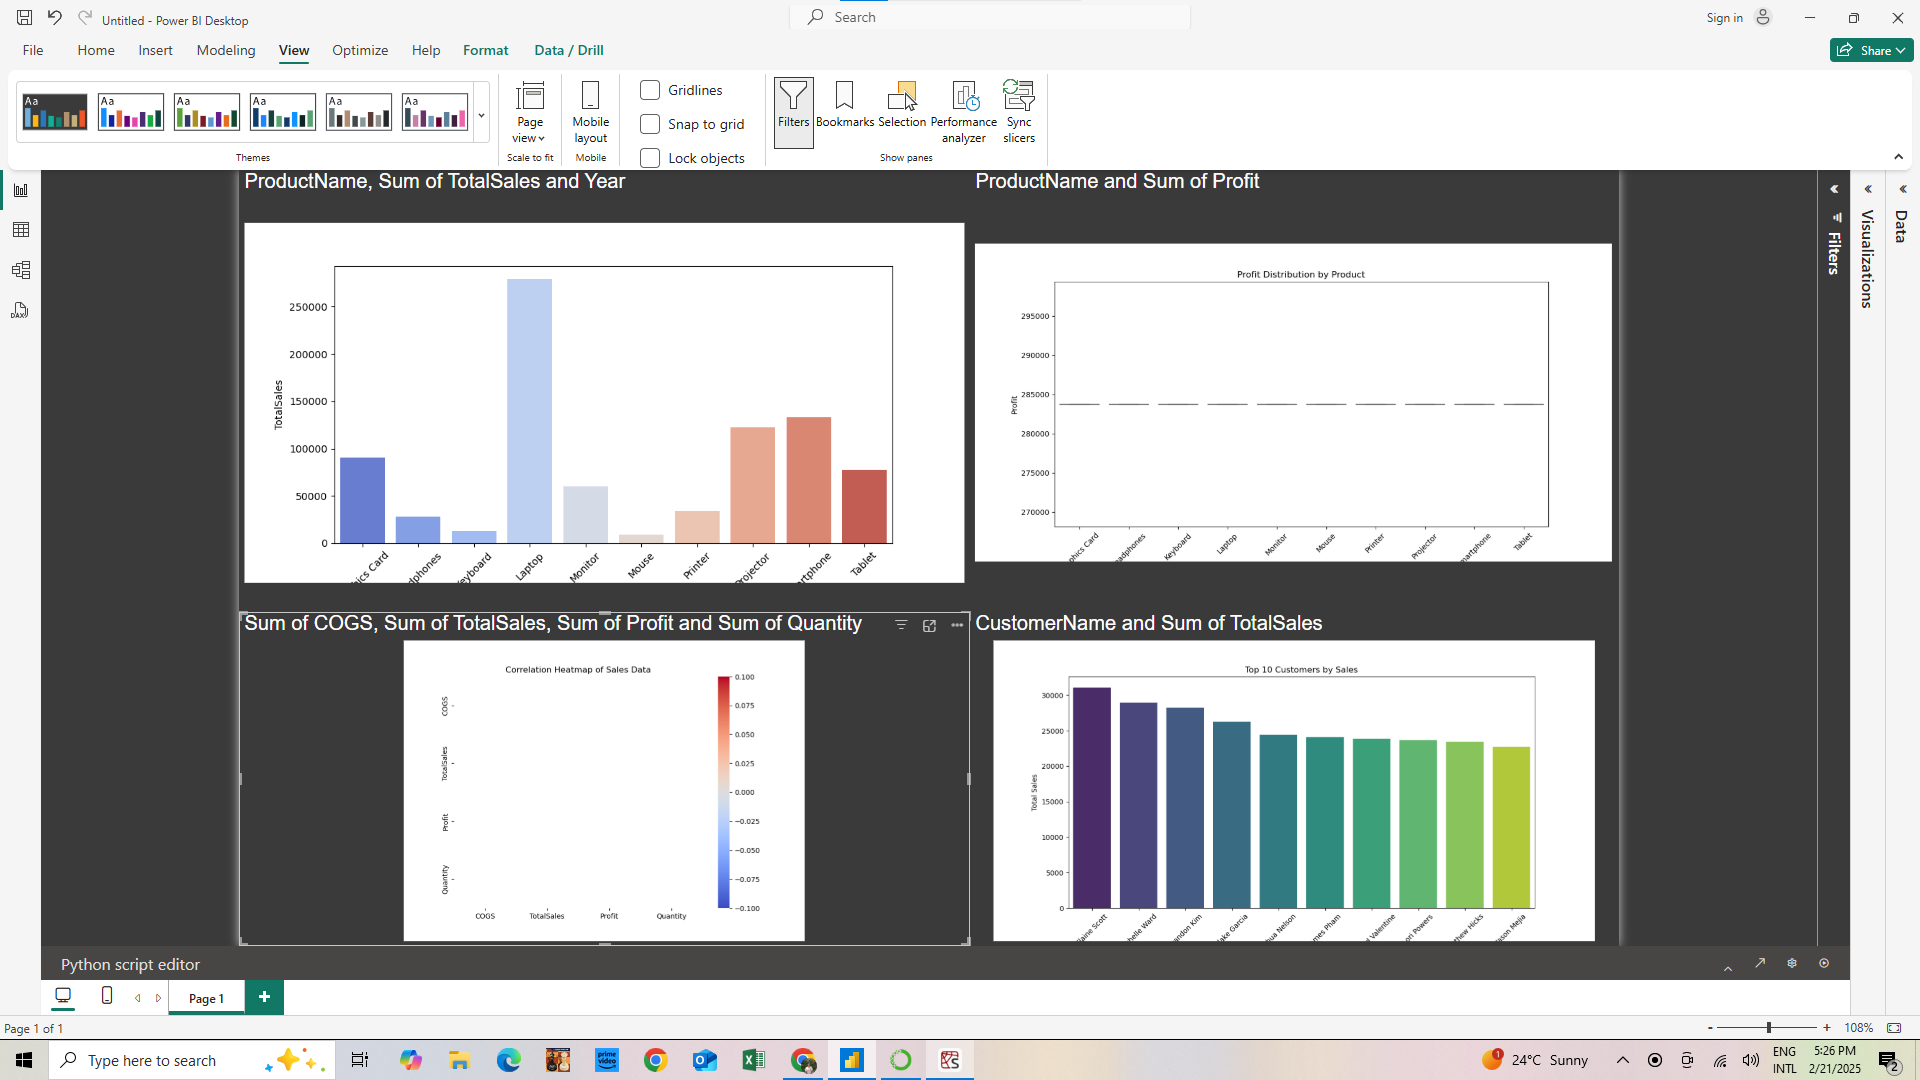

This screenshot's page, from the dashboard's own definition file:
{"tool":"powerbi","page":{"name":"Page 1","canvas":[1280,720],"ordinal":0},"visuals":[{"type":"pythonVisual","fields":{"Values":["df_sales.ProductName","df_sales.TotalSales","df_sales.SaleDate.Variation.Date Hierarchy.Year"]},"box":[0,0,677.8,410.6],"z":0},{"type":"pythonVisual","fields":{"Values":["df_sales.COGS","df_sales.TotalSales","df_sales.Profit","df_sales.Quantity"]},"box":[0,410.2,678.1,310.2],"z":1},{"type":"pythonVisual","fields":{"Values":["df_sales.CustomerName","df_sales.TotalSales"]},"box":[678.1,410.2,601.9,310.2],"z":2},{"type":"pythonVisual","fields":{"Values":["sales_data.ProductName","df_sales.Profit"]},"box":[678.1,0,600.8,410.2],"z":3}]}

Visuals, with their boxes on the page's 1280x720 design canvas (x1, y1, x2, y2). These are canvas units, not pixel positions in the 1920x1080 screenshot, which may show the page scaled, cropped or inside an application window:
pythonVisual - df_sales.ProductName x df_sales.TotalSales: [0,0,678,411]
pythonVisual - df_sales.COGS x df_sales.TotalSales: [0,410,678,720]
pythonVisual - df_sales.CustomerName x df_sales.TotalSales: [678,410,1280,720]
pythonVisual - sales_data.ProductName x df_sales.Profit: [678,0,1279,410]
